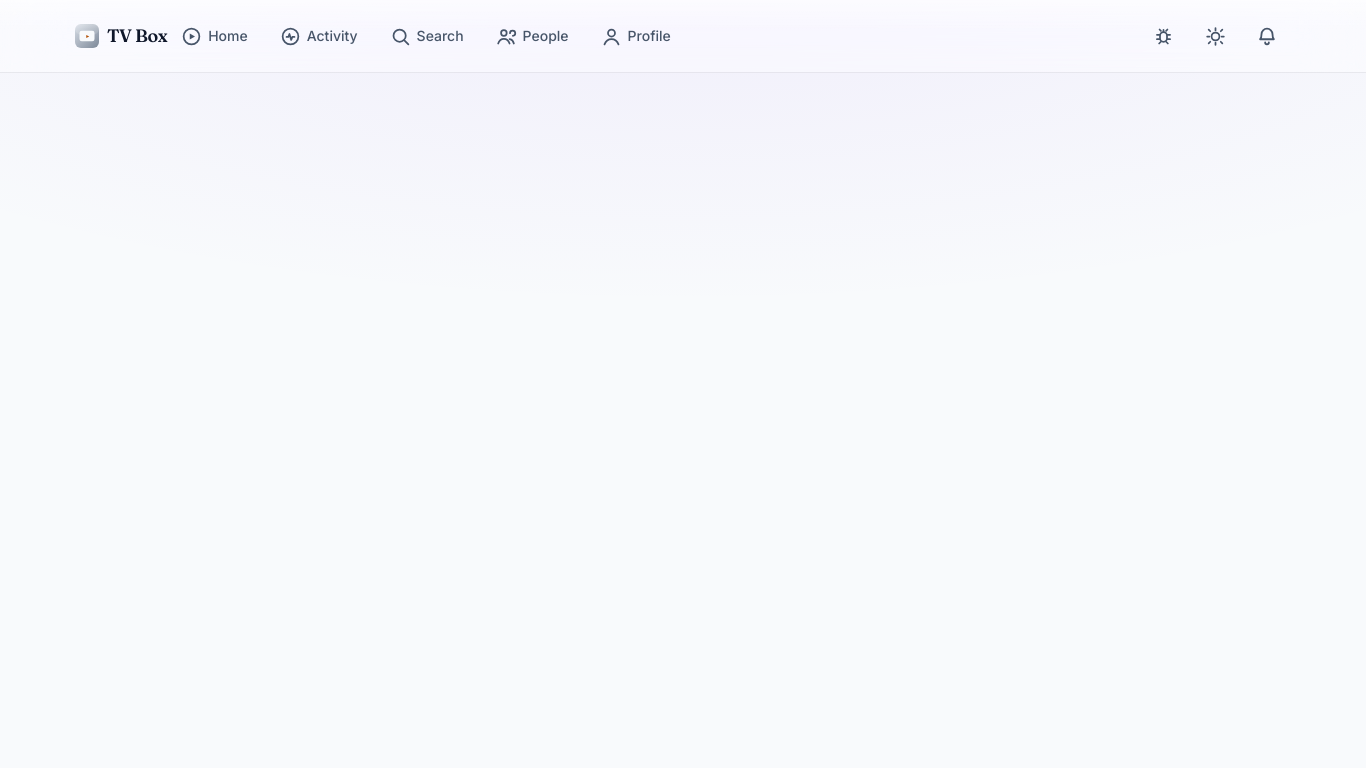
Test: Navbar + real ReportBugPanel › still closes the modal via its own Cancel button
Click the button named "Report a bug" at (1163, 36), box [1139,12,1187,60]
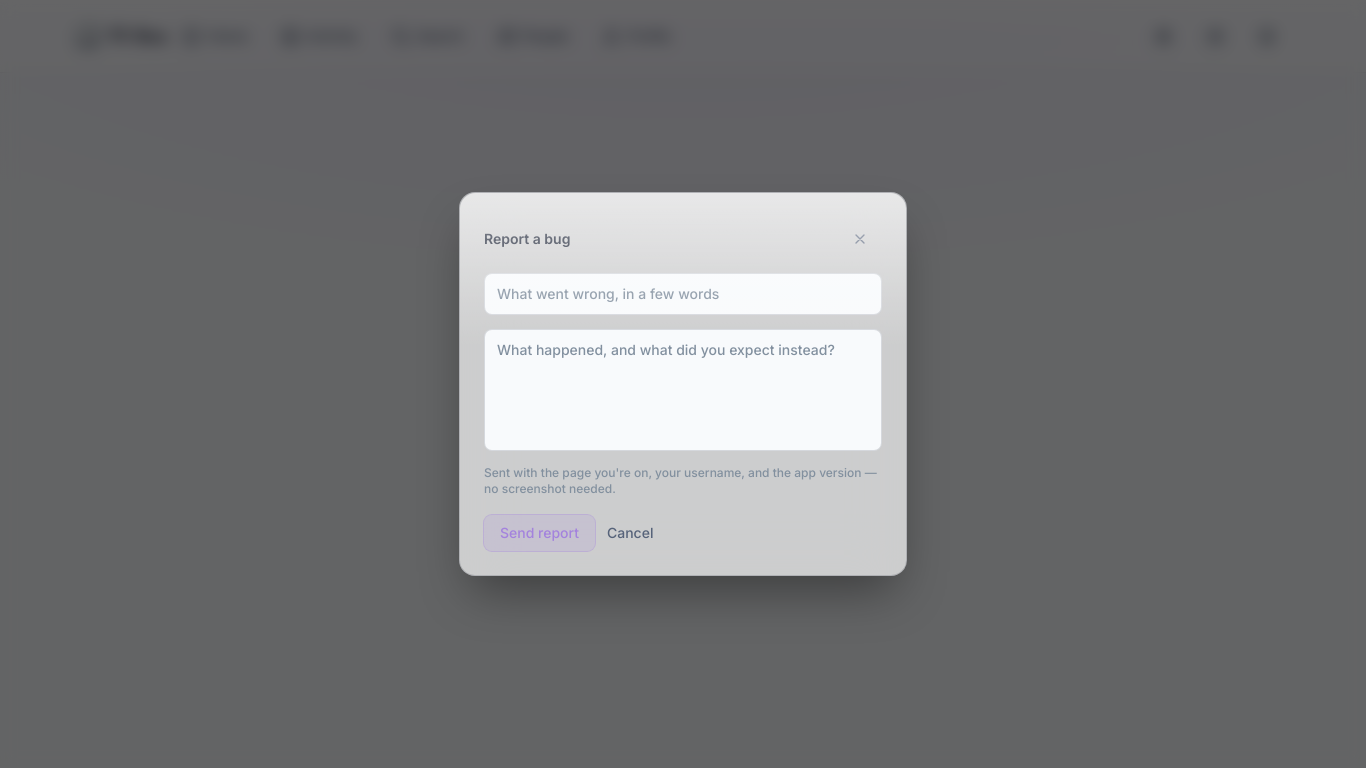
Click the button "Cancel" at (630, 533), box [607,523,654,543]
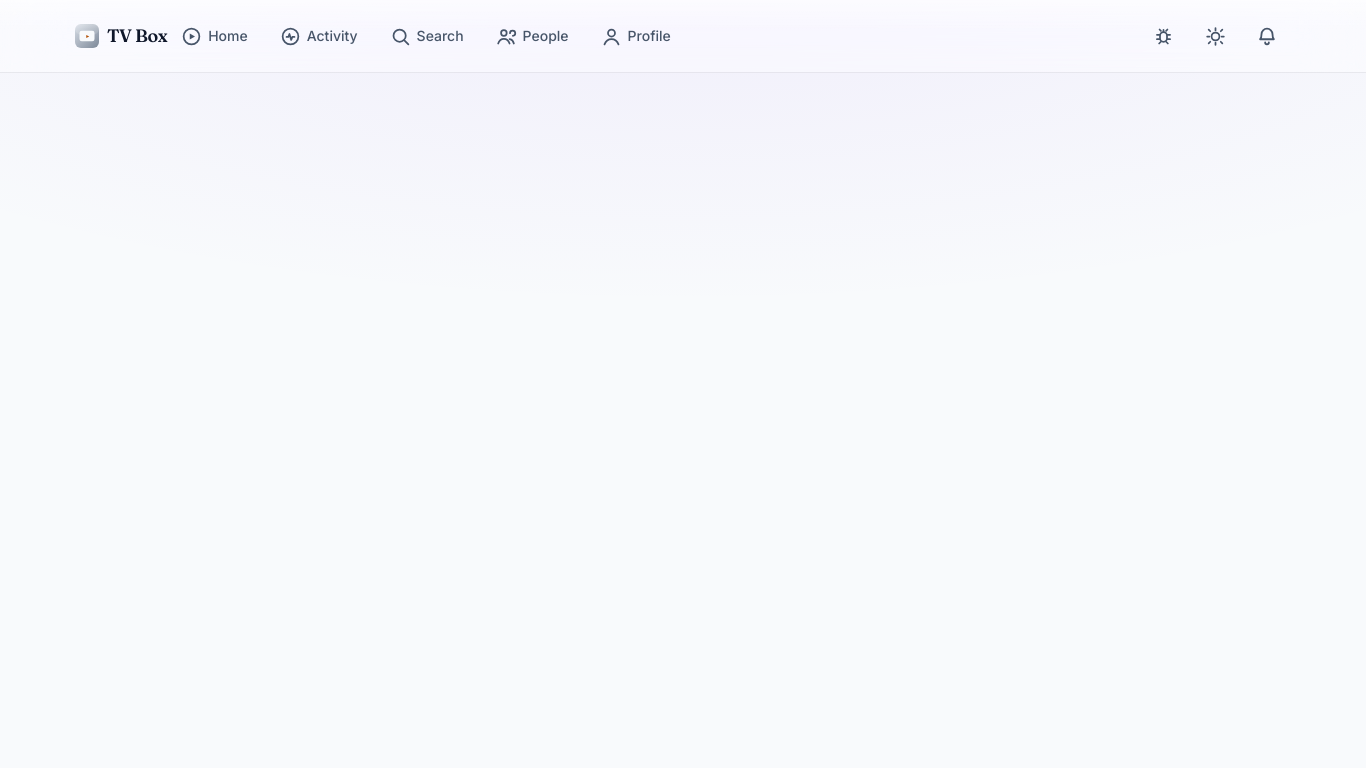
Now the text "Report a bug" is gone
